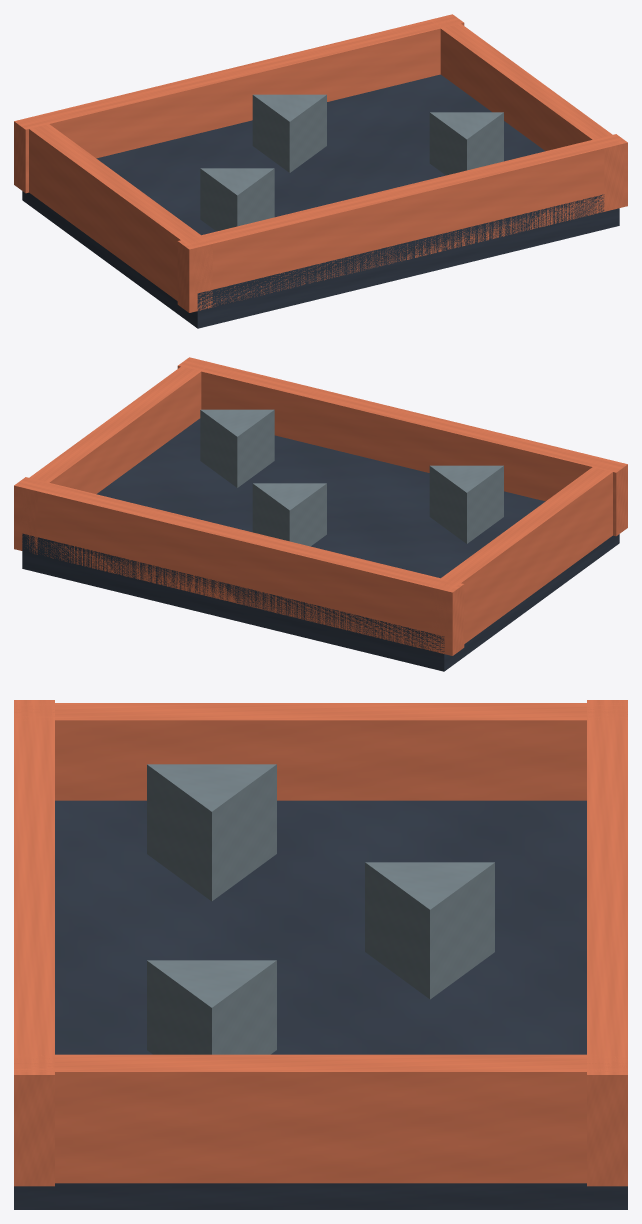
The model's file is atlas100-s021-a03.lod2.glb.
3 views of the same model, one above another, from view 1: azimuth 30°, elevation 25°; view 2: azimuth 150°, elevation 25°; view 3: azimuth 270°, elevation 25° (orthographic). The views are drawn at different scales.
Visible parts, largest first — view 1: atlas100-s021-a03:part-000, atlas100-s021-a03:part-002, atlas100-s021-a03:part-001, atlas100-s021-a03:part-003, atlas100-s021-a03:part-004, atlas100-s021-a03:part-006, atlas100-s021-a03:part-010, atlas100-s021-a03:part-008; view 2: atlas100-s021-a03:part-000, atlas100-s021-a03:part-001, atlas100-s021-a03:part-002, atlas100-s021-a03:part-003, atlas100-s021-a03:part-004, atlas100-s021-a03:part-010, atlas100-s021-a03:part-008, atlas100-s021-a03:part-006; view 3: atlas100-s021-a03:part-000, atlas100-s021-a03:part-004, atlas100-s021-a03:part-003, atlas100-s021-a03:part-001, atlas100-s021-a03:part-002, atlas100-s021-a03:part-006, atlas100-s021-a03:part-008, atlas100-s021-a03:part-010.
Boxes of the visible parts, x1,y1,x2,y2 form: atlas100-s021-a03:part-000: (22,74,619,328); atlas100-s021-a03:part-002: (177,134,627,312); atlas100-s021-a03:part-001: (14,14,464,193); atlas100-s021-a03:part-003: (29,124,212,311); atlas100-s021-a03:part-004: (430,15,624,211); atlas100-s021-a03:part-006: (252,94,326,172); atlas100-s021-a03:part-010: (429,112,503,175); atlas100-s021-a03:part-008: (200,168,274,231); atlas100-s021-a03:part-000: (22,418,619,671); atlas100-s021-a03:part-001: (14,477,464,655); atlas100-s021-a03:part-002: (177,357,627,536); atlas100-s021-a03:part-003: (429,467,612,654); atlas100-s021-a03:part-004: (17,358,211,554); atlas100-s021-a03:part-010: (200,409,274,487); atlas100-s021-a03:part-008: (429,465,503,543); atlas100-s021-a03:part-006: (252,483,326,546); atlas100-s021-a03:part-000: (14,800,627,1209); atlas100-s021-a03:part-004: (14,1054,627,1183); atlas100-s021-a03:part-003: (14,703,627,800); atlas100-s021-a03:part-001: (587,700,627,1186); atlas100-s021-a03:part-002: (14,700,54,1186); atlas100-s021-a03:part-006: (365,862,494,999); atlas100-s021-a03:part-008: (147,764,276,901); atlas100-s021-a03:part-010: (147,960,276,1054).
Bounding box in the file's own units: 1.36 × 0.2563 × 0.9414.
3 materials, 3 textured.
